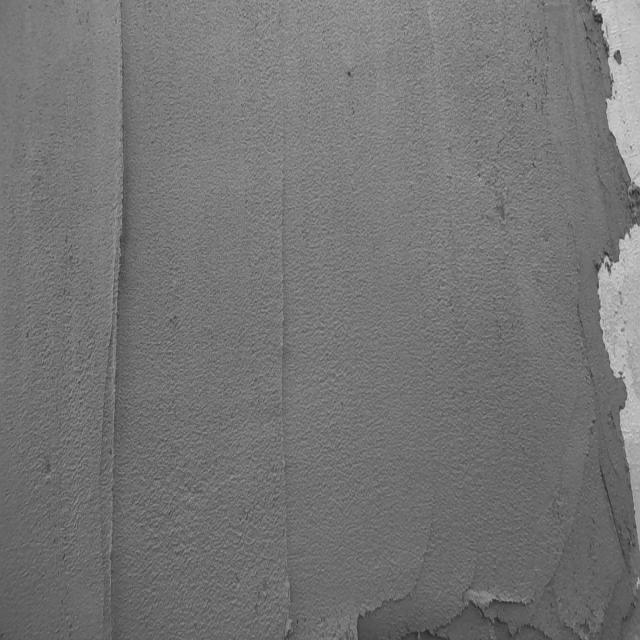trowels marks: (102, 0, 137, 640), (276, 117, 296, 640)
